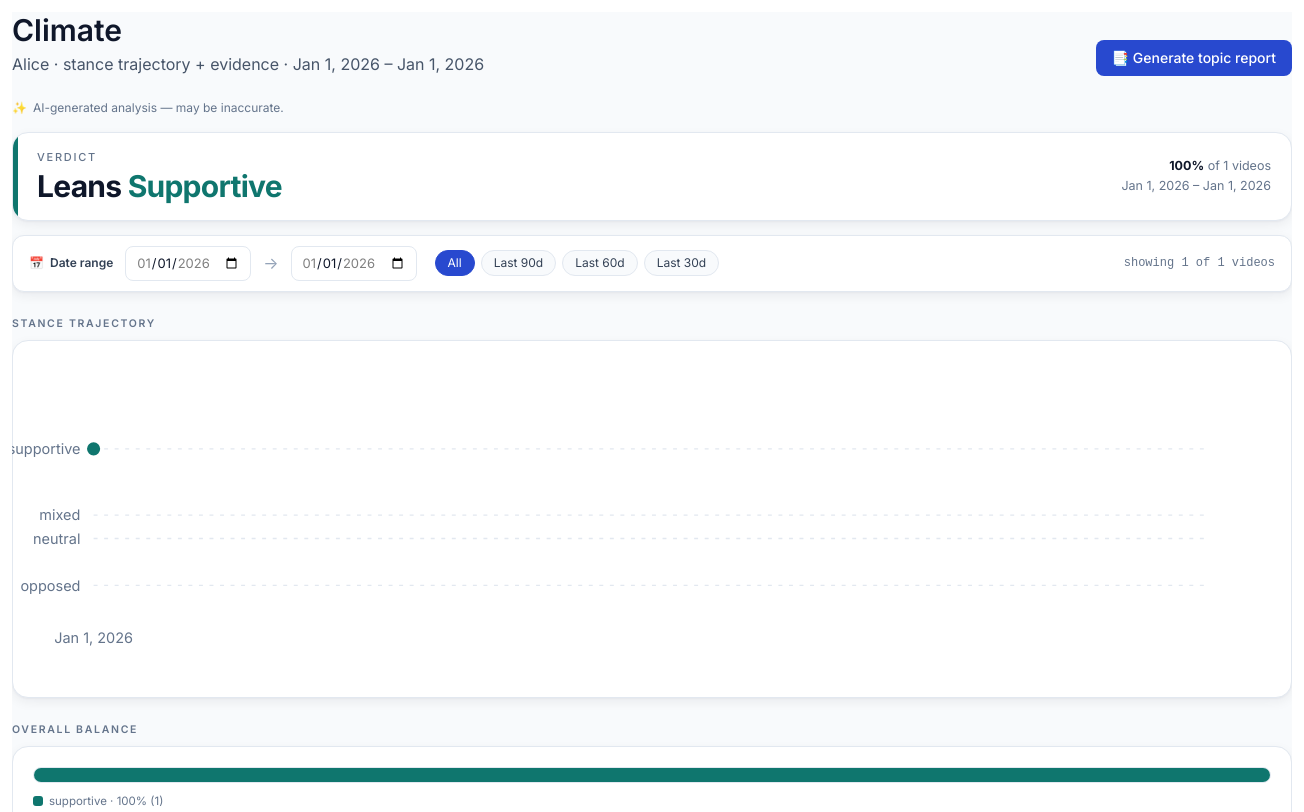
Test case: TopicAnalysisPage generate report flow › Generate topic report button posts and refreshes the analysis
Expected: the heading "Climate" is shown, [12,12,122,48]
Click the button "📑 Generate topic report" at x=1194, y=58, box [1096,40,1292,76]
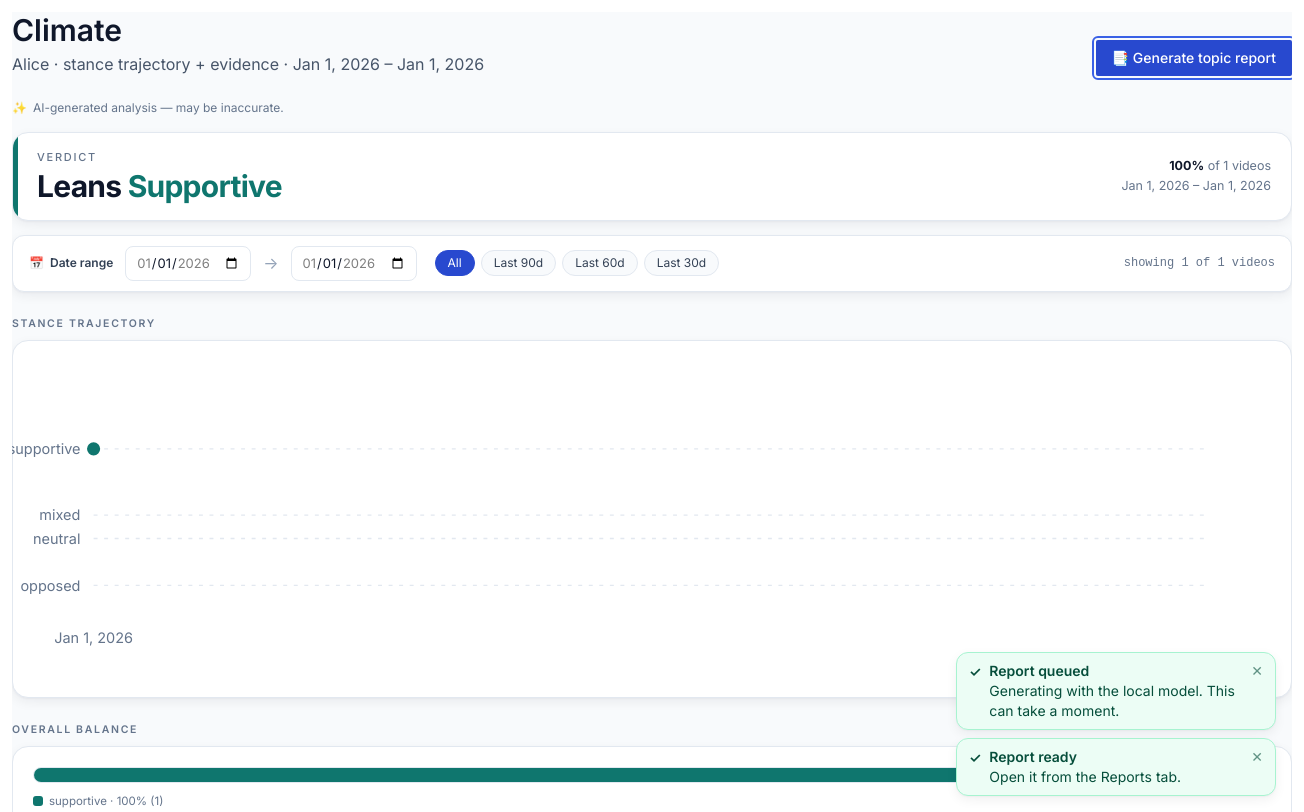
Now the text "Report ready" is shown, box [989,748,1077,765]
